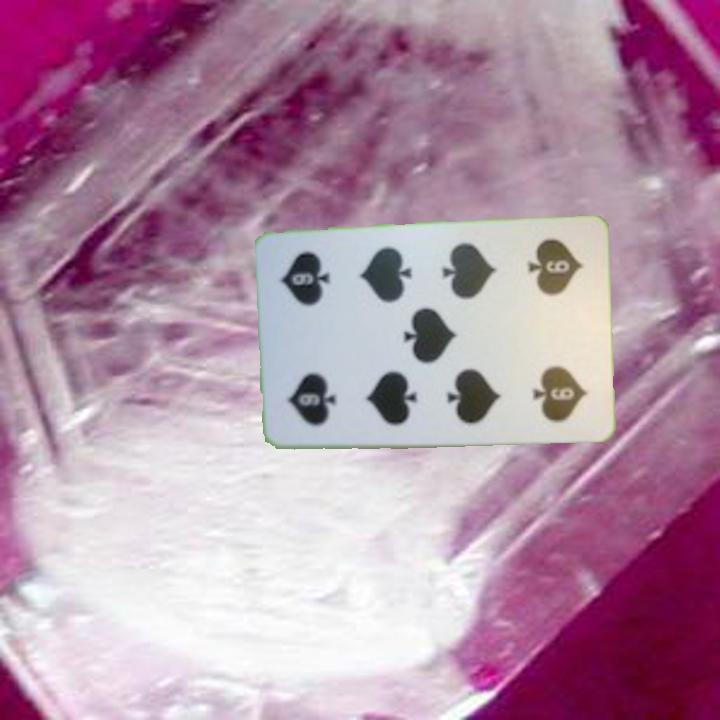s_9.png: (506, 231, 595, 334), (274, 334, 363, 436)
